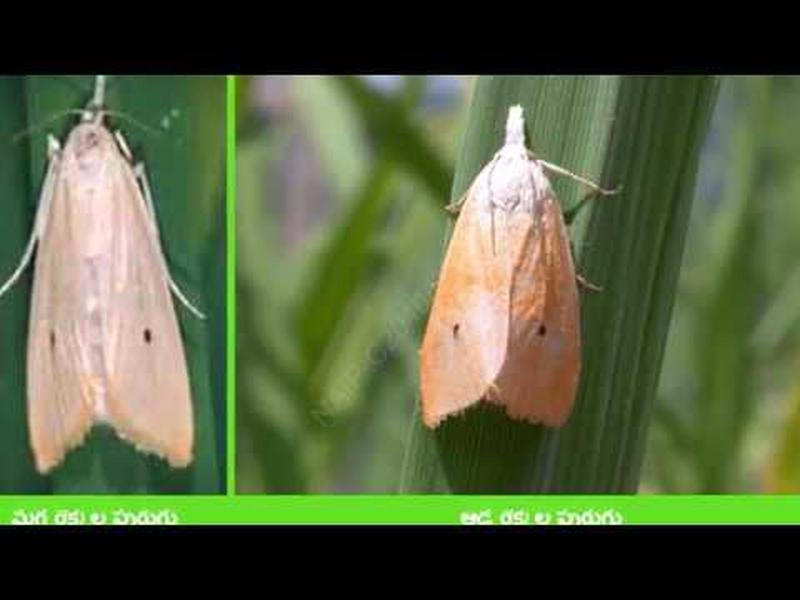Paddy_stemborer: (388, 122, 609, 440), (15, 103, 201, 472)
